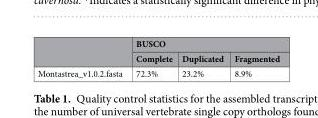table: (36, 36, 279, 78)
table column: (36, 36, 128, 78), (176, 36, 228, 78), (228, 36, 279, 78), (128, 36, 176, 78)
table column header: (36, 36, 279, 65)
table row: (36, 50, 279, 65), (36, 36, 279, 50), (36, 65, 279, 78)
table spanning cell: (128, 36, 279, 50)
